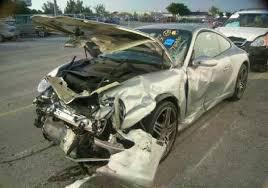doorouter-dent: (187, 67, 218, 112)
fender-dent: (128, 73, 182, 119)
front-bumper-dent: (34, 90, 115, 133)
